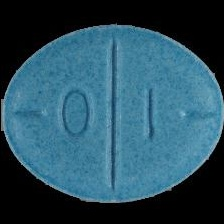0555-0972: (0, 0, 224, 224)
